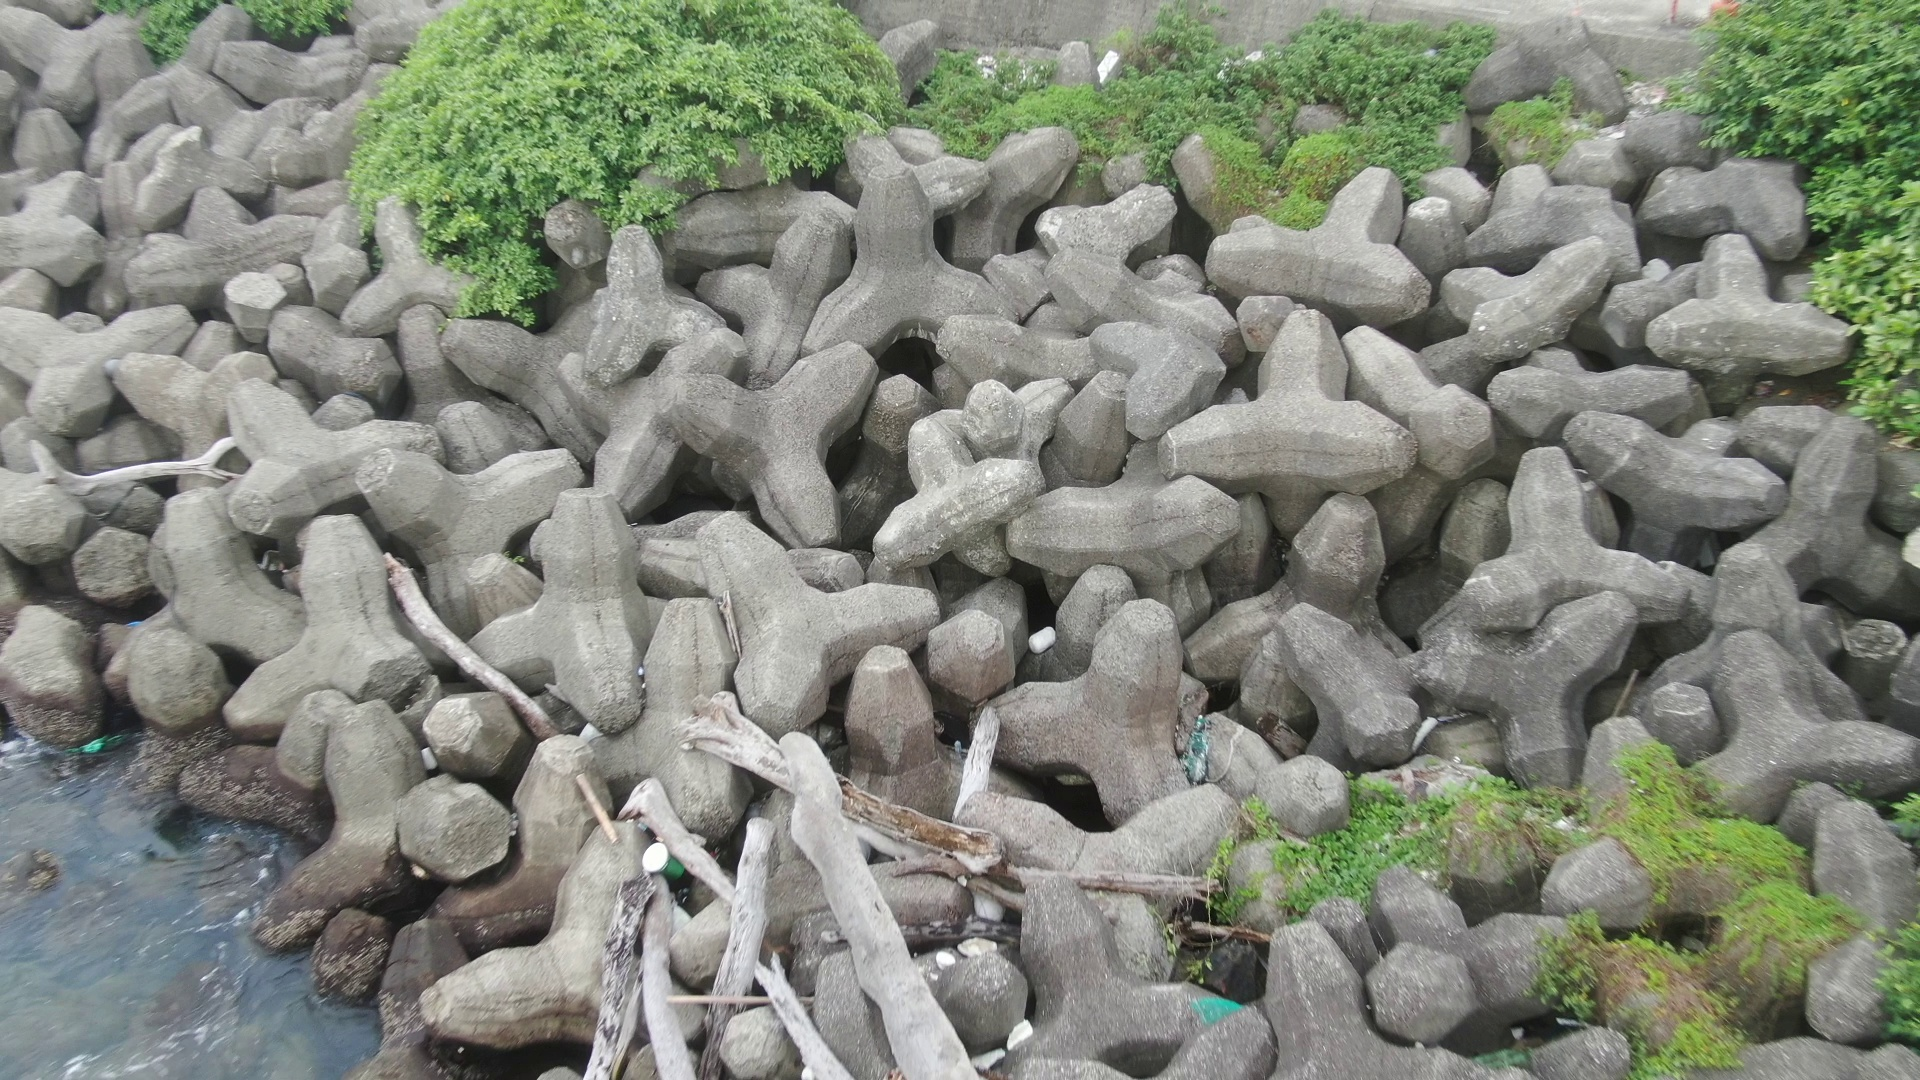garbage: (636, 840, 700, 887), (65, 727, 145, 761), (1015, 620, 1073, 655)
